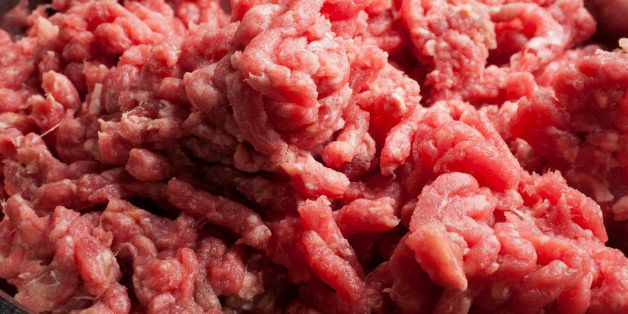ground_beef: (8, 5, 619, 314)
